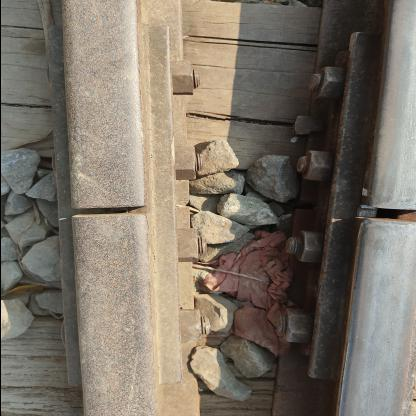Non Defective 2: (50, 148, 166, 268)
Non Defective 3: (269, 28, 393, 386), (139, 21, 221, 390)
